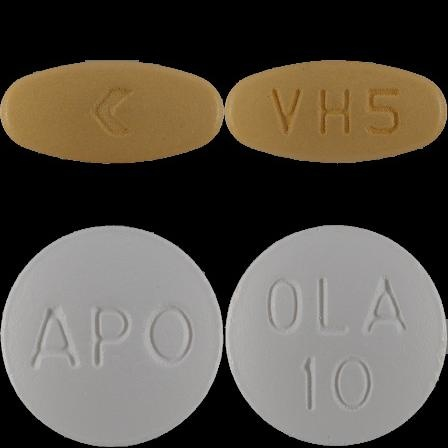63187-428: (0, 0, 224, 224)
